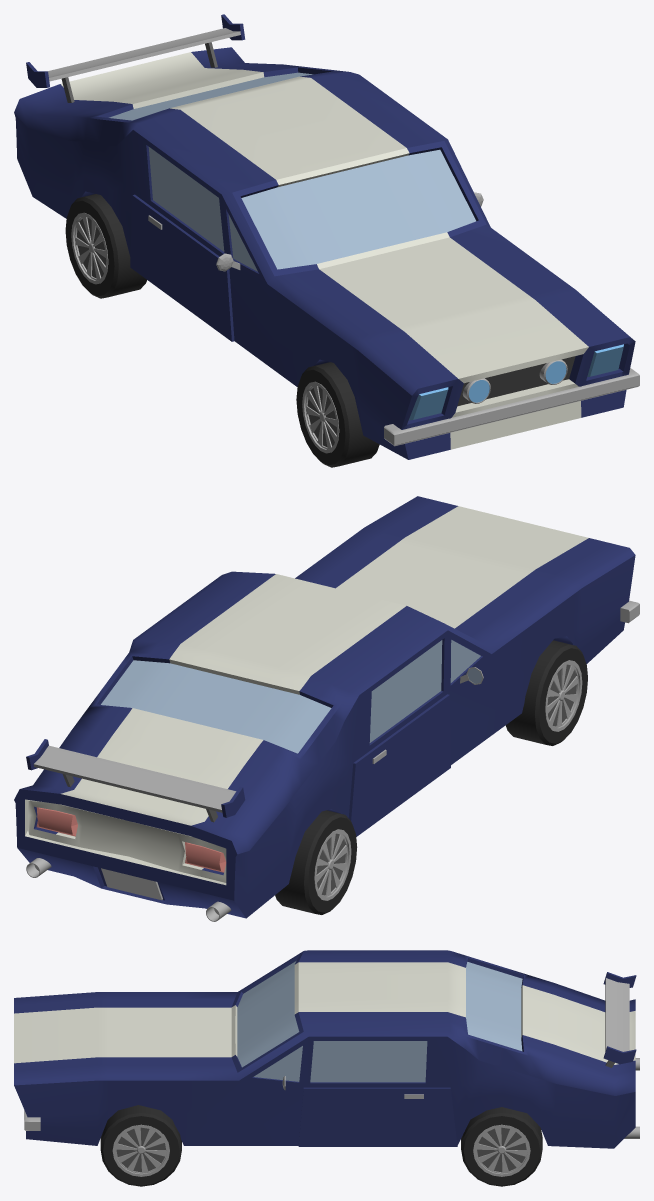
The model's file is Car_02.fbx.
The picture shows the model from 3 angles, top to bottom: view 1: azimuth 30°, elevation 25°; view 2: azimuth 150°, elevation 25°; view 3: azimuth 270°, elevation 25°; orthographic projection. The views are drawn at different scales.
Visible parts, largest first — view 1: Car_Merged1, Tire_Front_Right, Tire_Back_Left1; view 2: Car_Merged1, Tire_Back_Left1, Tire_Front_Right; view 3: Car_Merged1, Tire_Front_Left, Tire_Back_Left.
Boxes of the visible parts, box(x1,y1,x2,y2) form: Car_Merged1: box(14, 14, 639, 459); Tire_Front_Right: box(296, 362, 379, 467); Tire_Back_Left1: box(65, 194, 146, 298); Car_Merged1: box(14, 496, 639, 921); Tire_Back_Left1: box(275, 810, 357, 914); Tire_Front_Right: box(505, 640, 587, 745); Car_Merged1: box(14, 950, 639, 1148); Tire_Front_Left: box(100, 1105, 181, 1186); Tire_Back_Left: box(461, 1107, 542, 1186).
Bounding box in the file's own units: 4.89 × 3.45 × 12.7.
